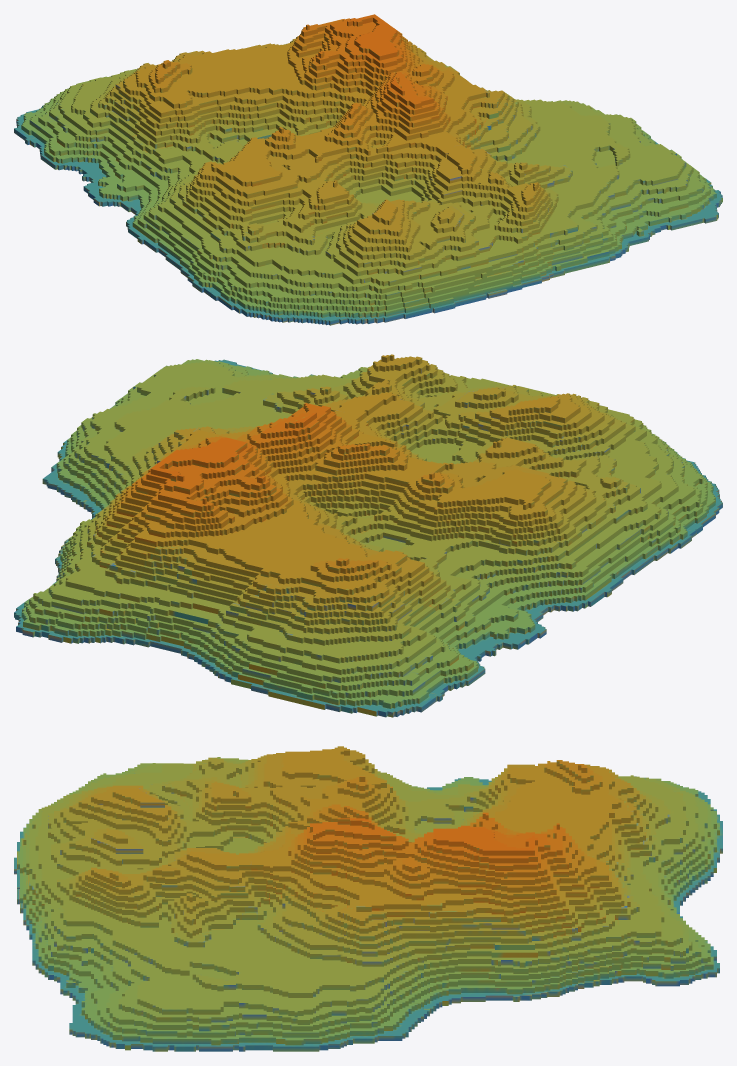
Rendered from terrainTestingOneV5.glb.
3 views of the same model, one above another, from view 1: azimuth 30°, elevation 25°; view 2: azimuth 150°, elevation 25°; view 3: azimuth 270°, elevation 25° (orthographic). The views are drawn at different scales.
Parts seen in each view (by area): view 1: samai-amai, isortar, safil, dubey, porsithi, malga, chadri; view 2: samai-amai, safil, chadri, porsithi, isortar, dubey, malga; view 3: chadri, dubey, porsithi, samai-amai, isortar, safil, malga.
Part boxes in pixels (x1,y1,x2,y2): samai-amai: (127,42,401,250); isortar: (335,144,571,323); safil: (25,52,274,296); dubey: (507,100,722,277); porsithi: (287,14,487,178); malga: (210,172,435,325); chadri: (14,35,546,162); samai-amai: (179,437,623,611); safil: (244,478,696,701); chadri: (14,426,436,717); porsithi: (94,402,399,572); isortar: (272,354,661,451); dubey: (42,359,369,506); malga: (388,419,722,533); chadri: (254,777,722,1013); dubey: (29,904,429,1051); porsithi: (248,812,630,938); samai-amai: (168,746,645,870); isortar: (14,785,257,940); safil: (192,757,676,838); malga: (51,763,275,854).
Size of the model in its own units: 3.32 by 0.5951 by 3.62.
7 materials, 7 textured.
